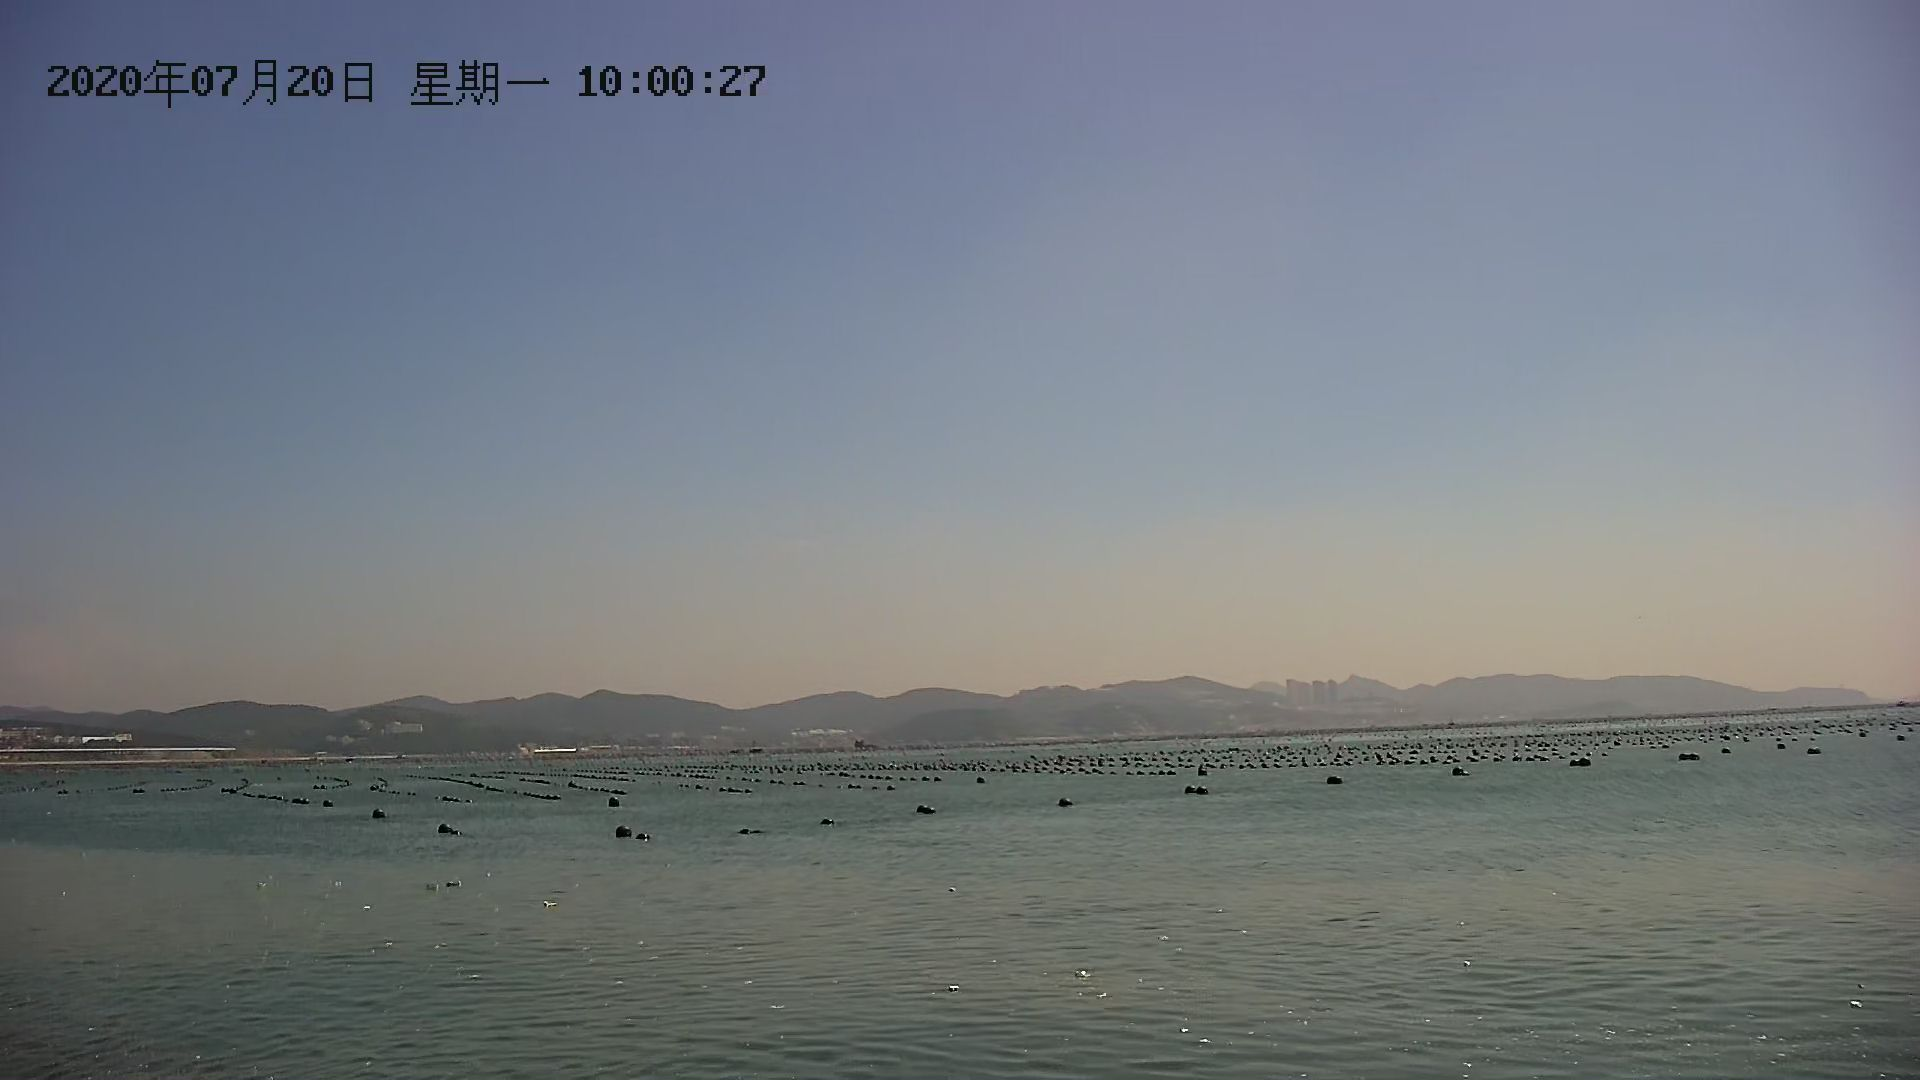ball: (1444, 764, 1473, 782), (435, 822, 468, 837), (1182, 785, 1215, 800), (611, 822, 634, 843), (911, 800, 943, 816), (816, 815, 847, 829), (1565, 754, 1596, 769), (1323, 774, 1349, 789), (1054, 796, 1076, 808)
